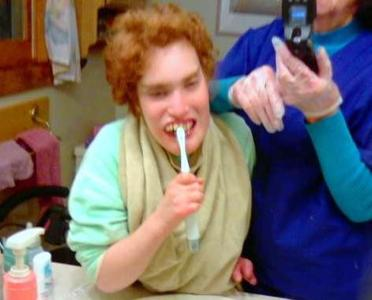person: (68, 3, 261, 294)
